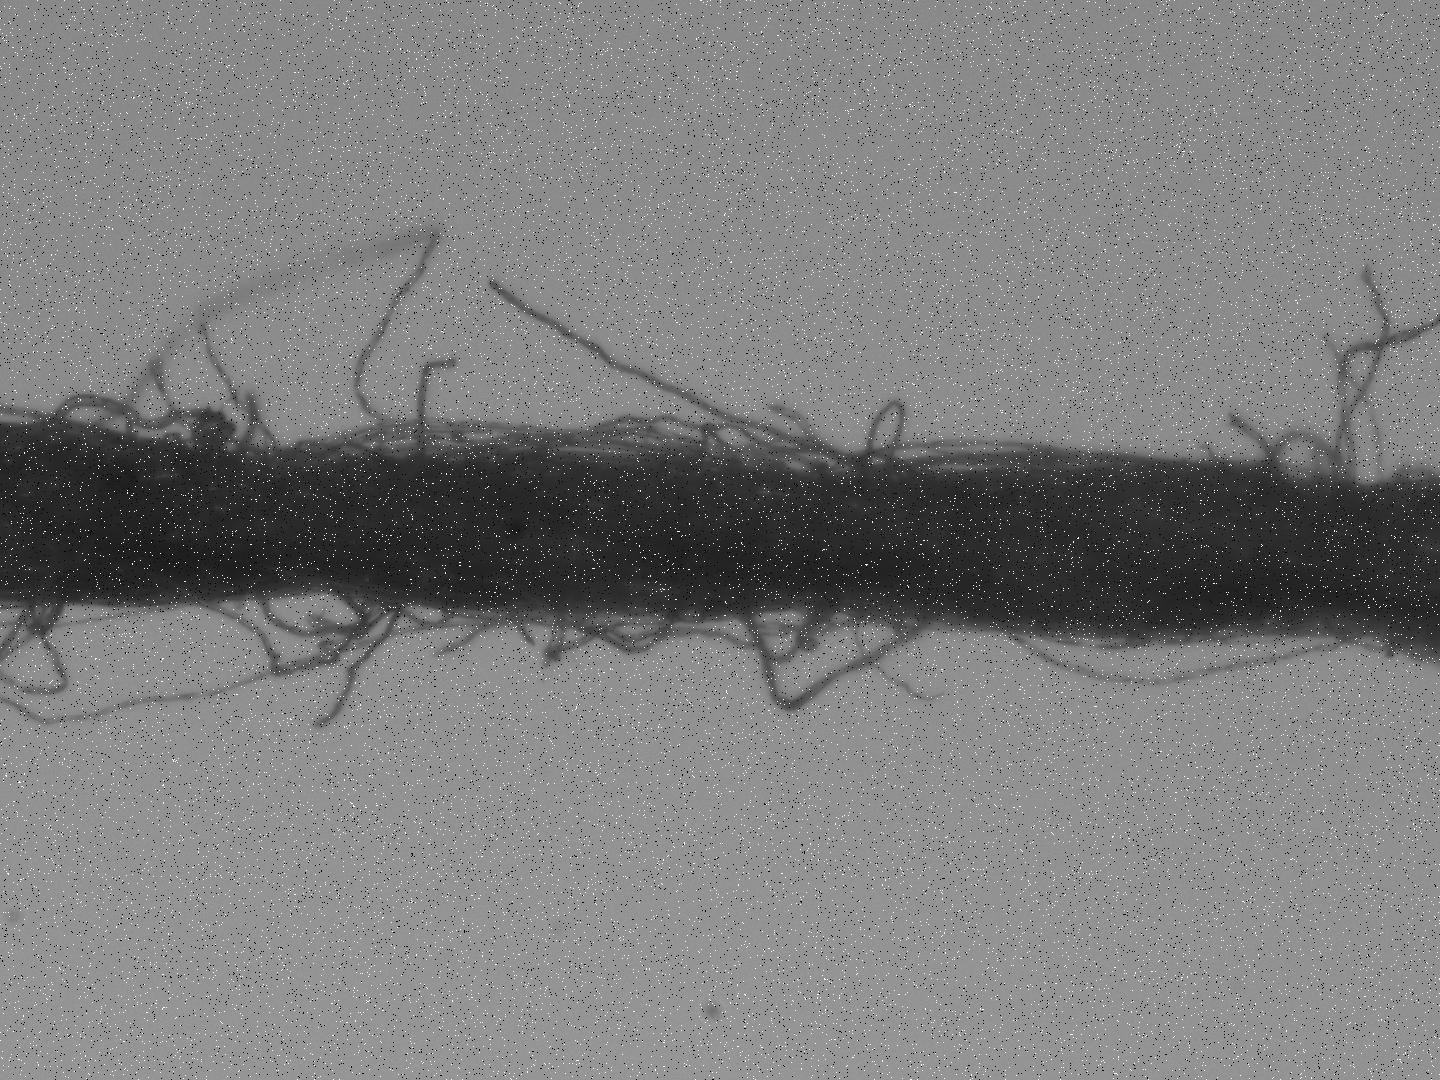loop_fiber: (1016, 633, 1357, 686), (54, 395, 235, 452), (570, 606, 761, 651), (536, 424, 709, 459), (263, 587, 372, 639), (744, 598, 833, 659), (915, 449, 1089, 474), (1272, 431, 1350, 482), (748, 436, 853, 472), (866, 394, 906, 474), (395, 598, 460, 634)
protruding_fiber: (488, 278, 844, 463), (314, 593, 408, 736), (198, 318, 274, 449), (1341, 262, 1394, 442), (413, 361, 460, 455), (441, 617, 515, 661), (1229, 412, 1279, 471)
